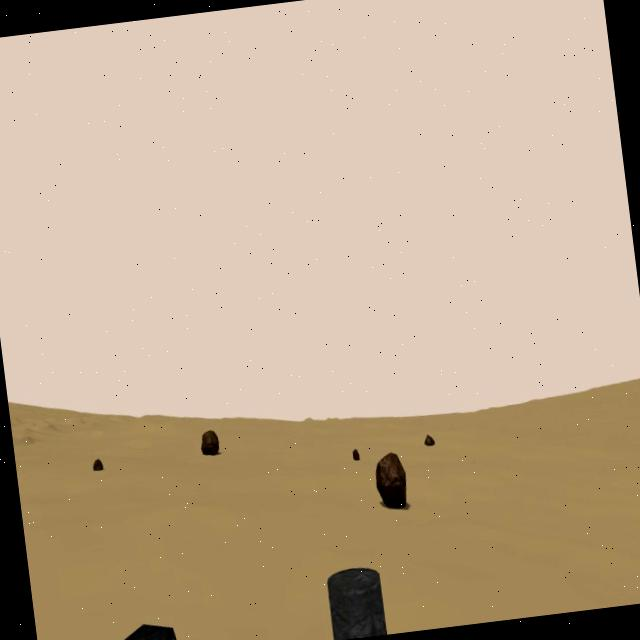rock: (372, 449, 408, 512), (105, 618, 184, 640), (200, 429, 219, 455), (91, 459, 102, 472), (424, 434, 434, 444), (352, 447, 358, 459)
